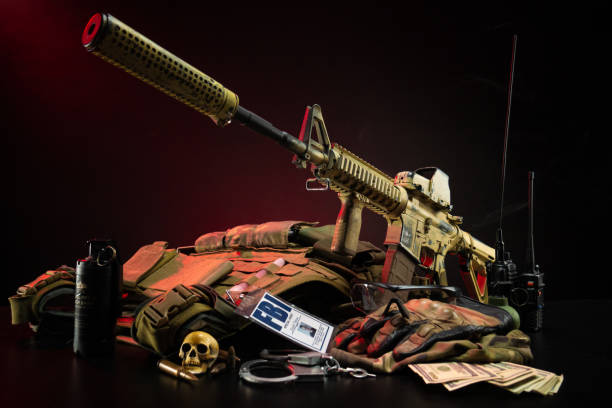e1: (71, 242, 126, 355)
